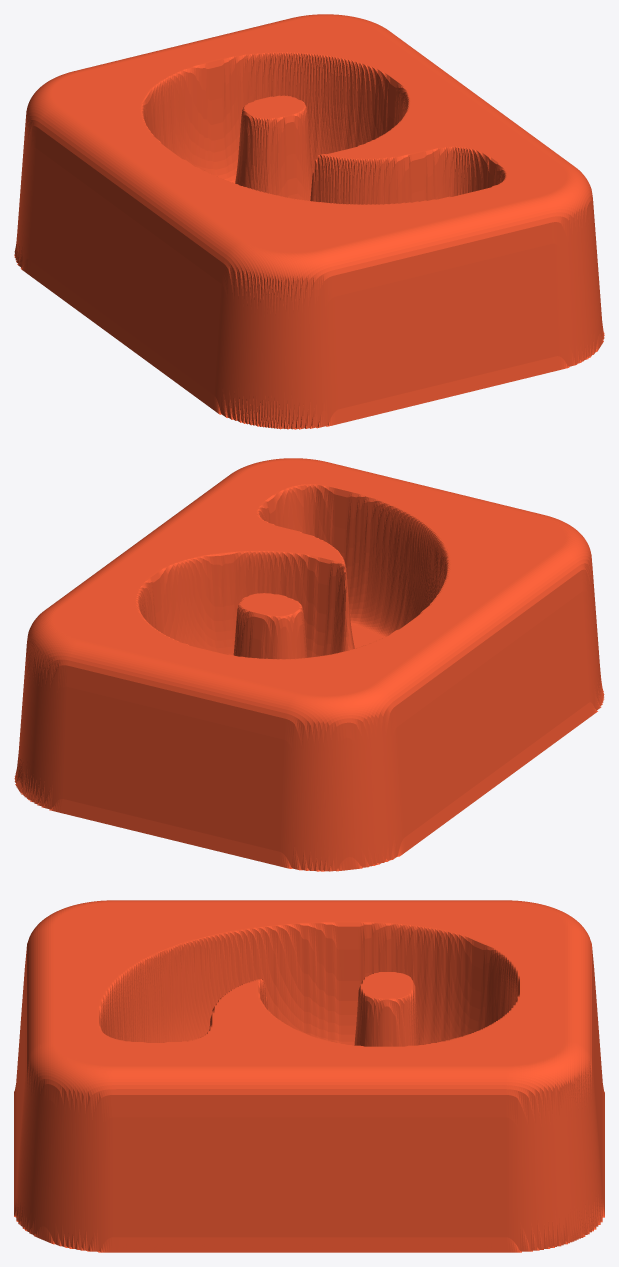
The model's file is mold.glb.
The picture shows the model from 3 angles, top to bottom: view 1: azimuth 30°, elevation 25°; view 2: azimuth 150°, elevation 25°; view 3: azimuth 270°, elevation 25°; orthographic projection. The views are drawn at different scales.
Parts seen in each view (by area): view 1: geometry_0; view 2: geometry_0; view 3: geometry_0.
Part boxes in pixels (bbox=[...]): geometry_0: bbox=[14, 14, 604, 429]; geometry_0: bbox=[14, 458, 604, 871]; geometry_0: bbox=[14, 900, 604, 1252].
Bounding box in the file's own units: 0.0426 × 0.0172 × 0.0542.
